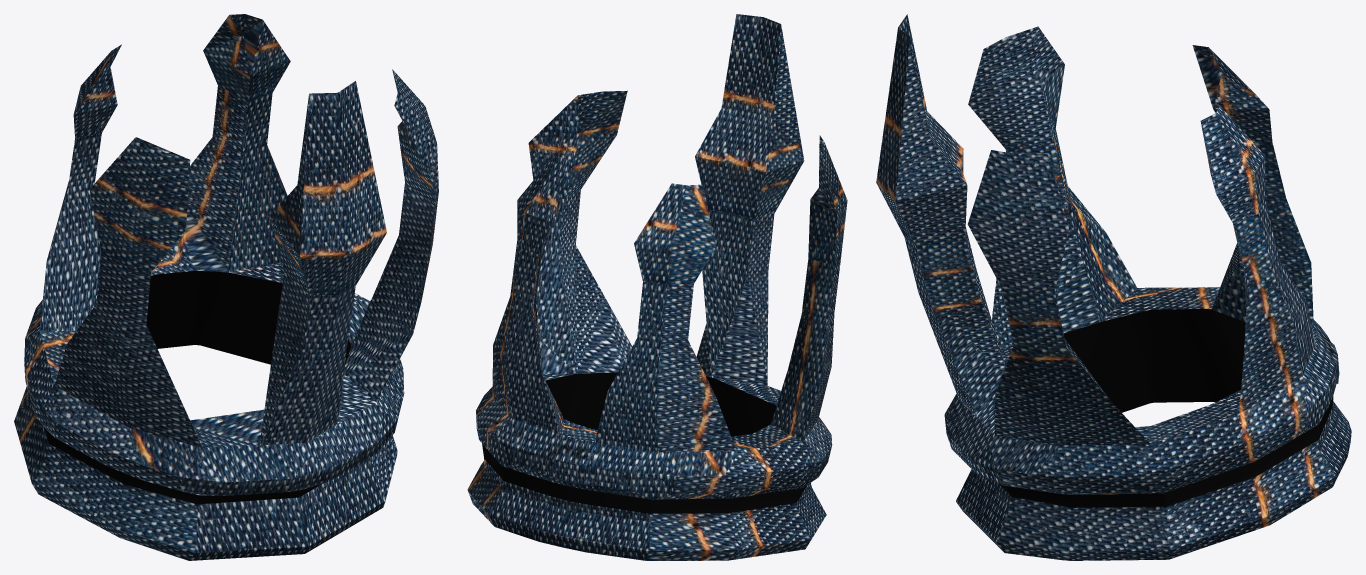
The model's file is CROWN_03.FBX.
The picture shows the model from 3 angles, left to right: view 1: azimuth 30°, elevation 25°; view 2: azimuth 150°, elevation 25°; view 3: azimuth 270°, elevation 25°; orthographic projection. The views are drawn at different scales.
Visible parts, largest first — view 1: Box001; view 2: Box001; view 3: Box001.
Boxes of the visible parts, x1,y1,x2,y2 form: Box001: (14,14,438,560); Box001: (467,14,847,560); Box001: (876,14,1351,560).
Size of the model in its own units: 131 by 170 by 151.
Materials: 2 (1 with a texture image).
